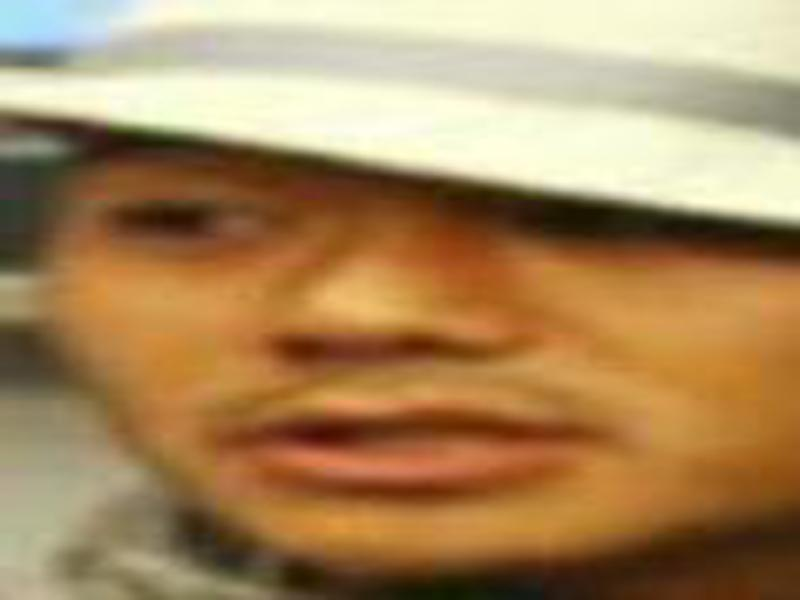without_mask: (44, 131, 793, 572)
